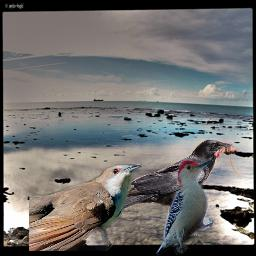Crow: (99, 136, 248, 236)
Cuckoo: (29, 164, 142, 251)
Woodpecker: (155, 158, 214, 256)
